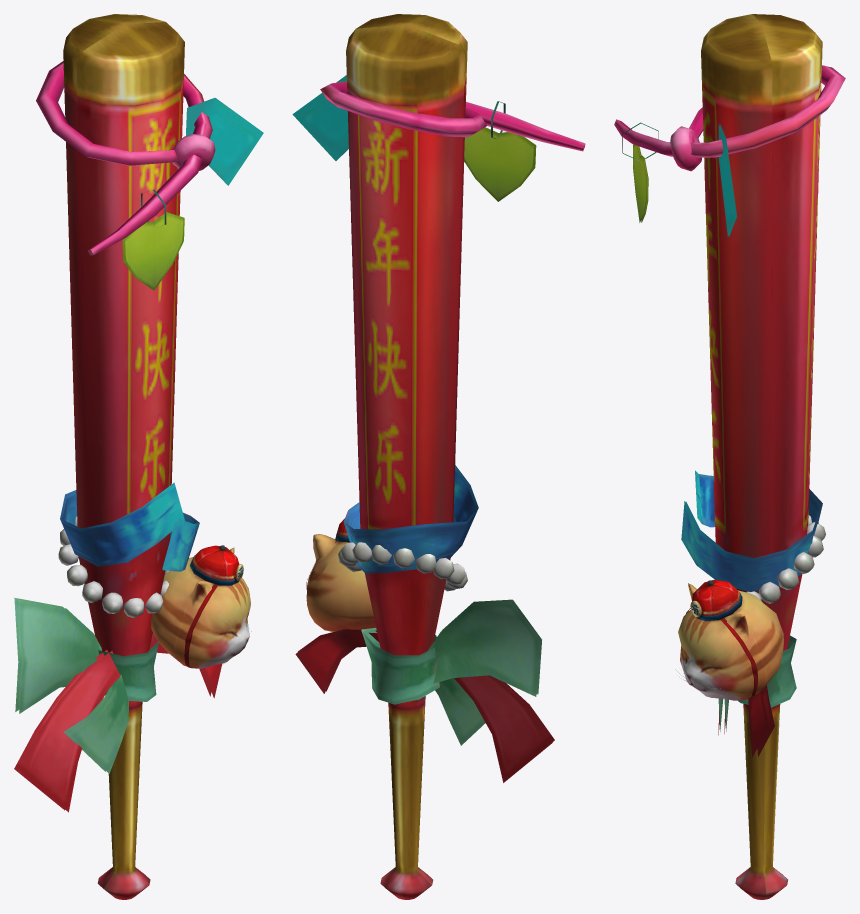
The model's file is XN_ZS_L_01_wuqi.FBX.
3 views of the same model, side by side, from view 1: azimuth 30°, elevation 25°; view 2: azimuth 150°, elevation 25°; view 3: azimuth 270°, elevation 25° (orthographic).
Visible parts, largest first — view 1: body1; view 2: body1; view 3: body1.
Part boxes in pixels (left/top/right/bottom): body1: left=14, top=14, right=263, bottom=899; body1: left=292, top=14, right=585, bottom=899; body1: left=614, top=14, right=845, bottom=899.
Bounding box in the file's own units: 65.58 × 214 × 51.59.
